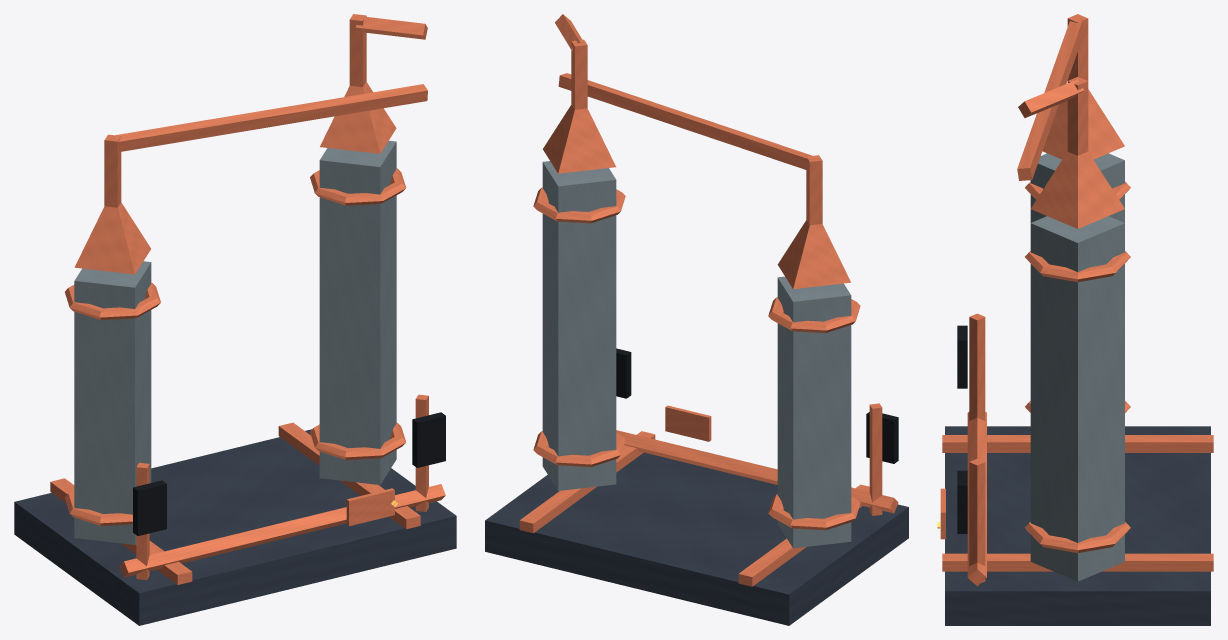
File: atlas100-s030-a02.lod1.glb
3 renders of one model, left to right at view 1: azimuth 30°, elevation 25°; view 2: azimuth 150°, elevation 25°; view 3: azimuth 270°, elevation 25°, orthographic. The views are drawn at different scales.
Parts seen in each view (by area): view 1: atlas100-s030-a02:part-000, atlas100-s030-a02:part-010, atlas100-s030-a02:part-003, atlas100-s030-a02:part-009, atlas100-s030-a02:part-021, atlas100-s030-a02:part-007, atlas100-s030-a02:part-014, atlas100-s030-a02:part-002, atlas100-s030-a02:part-018, atlas100-s030-a02:part-020, atlas100-s030-a02:part-005, atlas100-s030-a02:part-011 (+9 smaller); view 2: atlas100-s030-a02:part-000, atlas100-s030-a02:part-010, atlas100-s030-a02:part-003, atlas100-s030-a02:part-009, atlas100-s030-a02:part-021, atlas100-s030-a02:part-007, atlas100-s030-a02:part-014, atlas100-s030-a02:part-002, atlas100-s030-a02:part-017, atlas100-s030-a02:part-001, atlas100-s030-a02:part-004, atlas100-s030-a02:part-012 (+7 smaller); view 3: atlas100-s030-a02:part-010, atlas100-s030-a02:part-000, atlas100-s030-a02:part-014, atlas100-s030-a02:part-002, atlas100-s030-a02:part-001, atlas100-s030-a02:part-009, atlas100-s030-a02:part-007, atlas100-s030-a02:part-019, atlas100-s030-a02:part-017, atlas100-s030-a02:part-021, atlas100-s030-a02:part-003, atlas100-s030-a02:part-015 (+6 smaller).
Boxes of the visible parts, x1,y1,x2,y2 form: atlas100-s030-a02:part-000: [14, 429, 456, 625]; atlas100-s030-a02:part-010: [319, 140, 396, 484]; atlas100-s030-a02:part-003: [74, 261, 151, 544]; atlas100-s030-a02:part-009: [111, 84, 427, 151]; atlas100-s030-a02:part-021: [119, 484, 445, 577]; atlas100-s030-a02:part-007: [74, 202, 150, 274]; atlas100-s030-a02:part-014: [320, 82, 396, 153]; atlas100-s030-a02:part-002: [278, 422, 420, 529]; atlas100-s030-a02:part-018: [133, 480, 166, 535]; atlas100-s030-a02:part-020: [412, 412, 445, 467]; atlas100-s030-a02:part-005: [65, 283, 160, 320]; atlas100-s030-a02:part-011: [310, 423, 406, 460]; atlas100-s030-a02:part-000: [485, 452, 908, 625]; atlas100-s030-a02:part-010: [542, 161, 616, 490]; atlas100-s030-a02:part-003: [777, 276, 851, 548]; atlas100-s030-a02:part-009: [558, 73, 812, 170]; atlas100-s030-a02:part-021: [616, 430, 898, 513]; atlas100-s030-a02:part-007: [777, 220, 850, 289]; atlas100-s030-a02:part-014: [543, 104, 615, 173]; atlas100-s030-a02:part-002: [519, 431, 655, 533]; atlas100-s030-a02:part-017: [869, 403, 882, 515]; atlas100-s030-a02:part-001: [738, 484, 869, 586]; atlas100-s030-a02:part-004: [768, 494, 860, 530]; atlas100-s030-a02:part-012: [533, 187, 625, 223]; atlas100-s030-a02:part-010: [1030, 216, 1124, 581]; atlas100-s030-a02:part-000: [945, 426, 1210, 625]; atlas100-s030-a02:part-014: [1031, 151, 1124, 228]; atlas100-s030-a02:part-002: [942, 553, 1213, 571]; atlas100-s030-a02:part-001: [942, 435, 1213, 452]; atlas100-s030-a02:part-009: [1017, 18, 1084, 180]; atlas100-s030-a02:part-007: [1042, 89, 1124, 159]; atlas100-s030-a02:part-019: [969, 458, 985, 582]; atlas100-s030-a02:part-017: [969, 313, 985, 420]; atlas100-s030-a02:part-021: [967, 412, 986, 586]; atlas100-s030-a02:part-003: [1030, 153, 1124, 222]; atlas100-s030-a02:part-015: [1067, 77, 1088, 155].
Bounding box in the file's own units: 2.8 × 3.94 × 1.87.
Materials: 5 (5 with a texture image).
